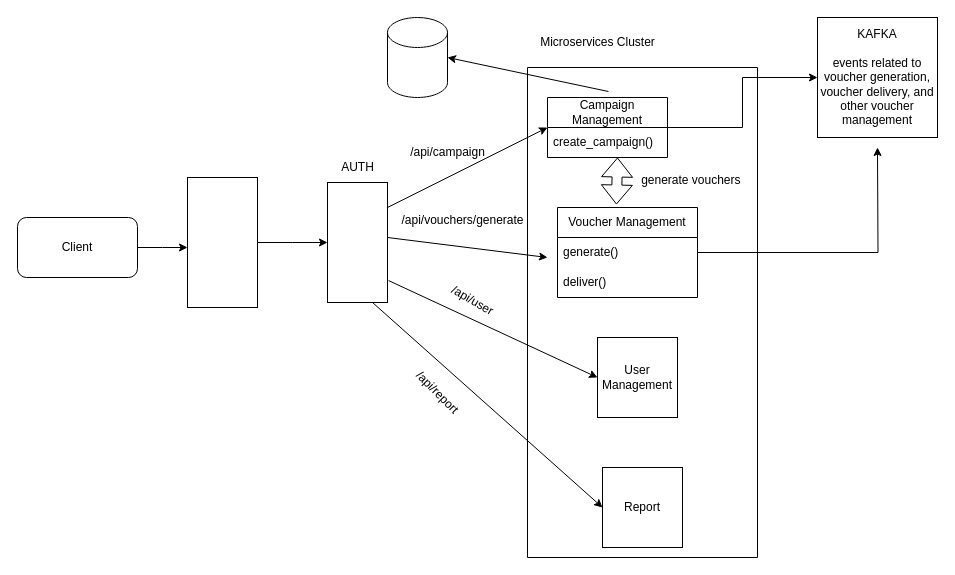
The diagram is 955 pixels wide and 575 high, and some of its shapes have lost their labels. Each missing label, with the centre of its shape:
API Gateways: point 357,242
DB (MongoDB): point 417,57
Load Balancers: point 222,242
